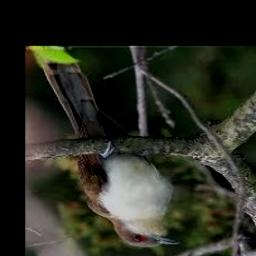Cuckoo: (43, 62, 182, 246)
